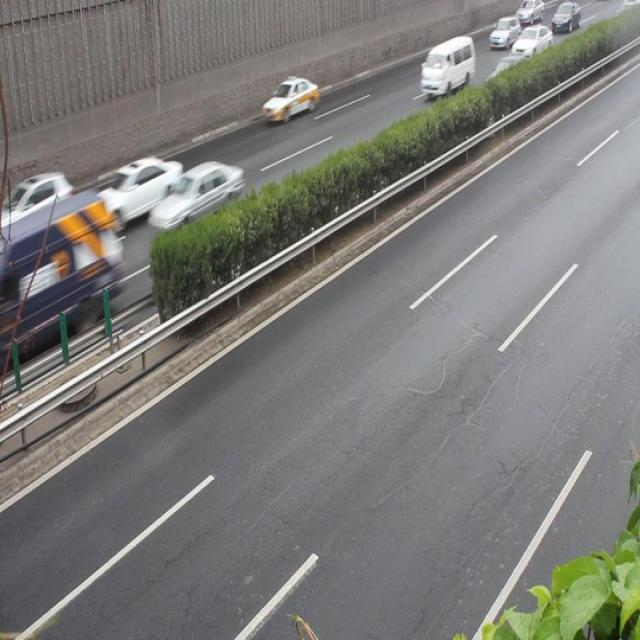car: (146, 162, 243, 234), (89, 156, 181, 230), (1, 170, 74, 238)
truck: (1, 192, 121, 348)
